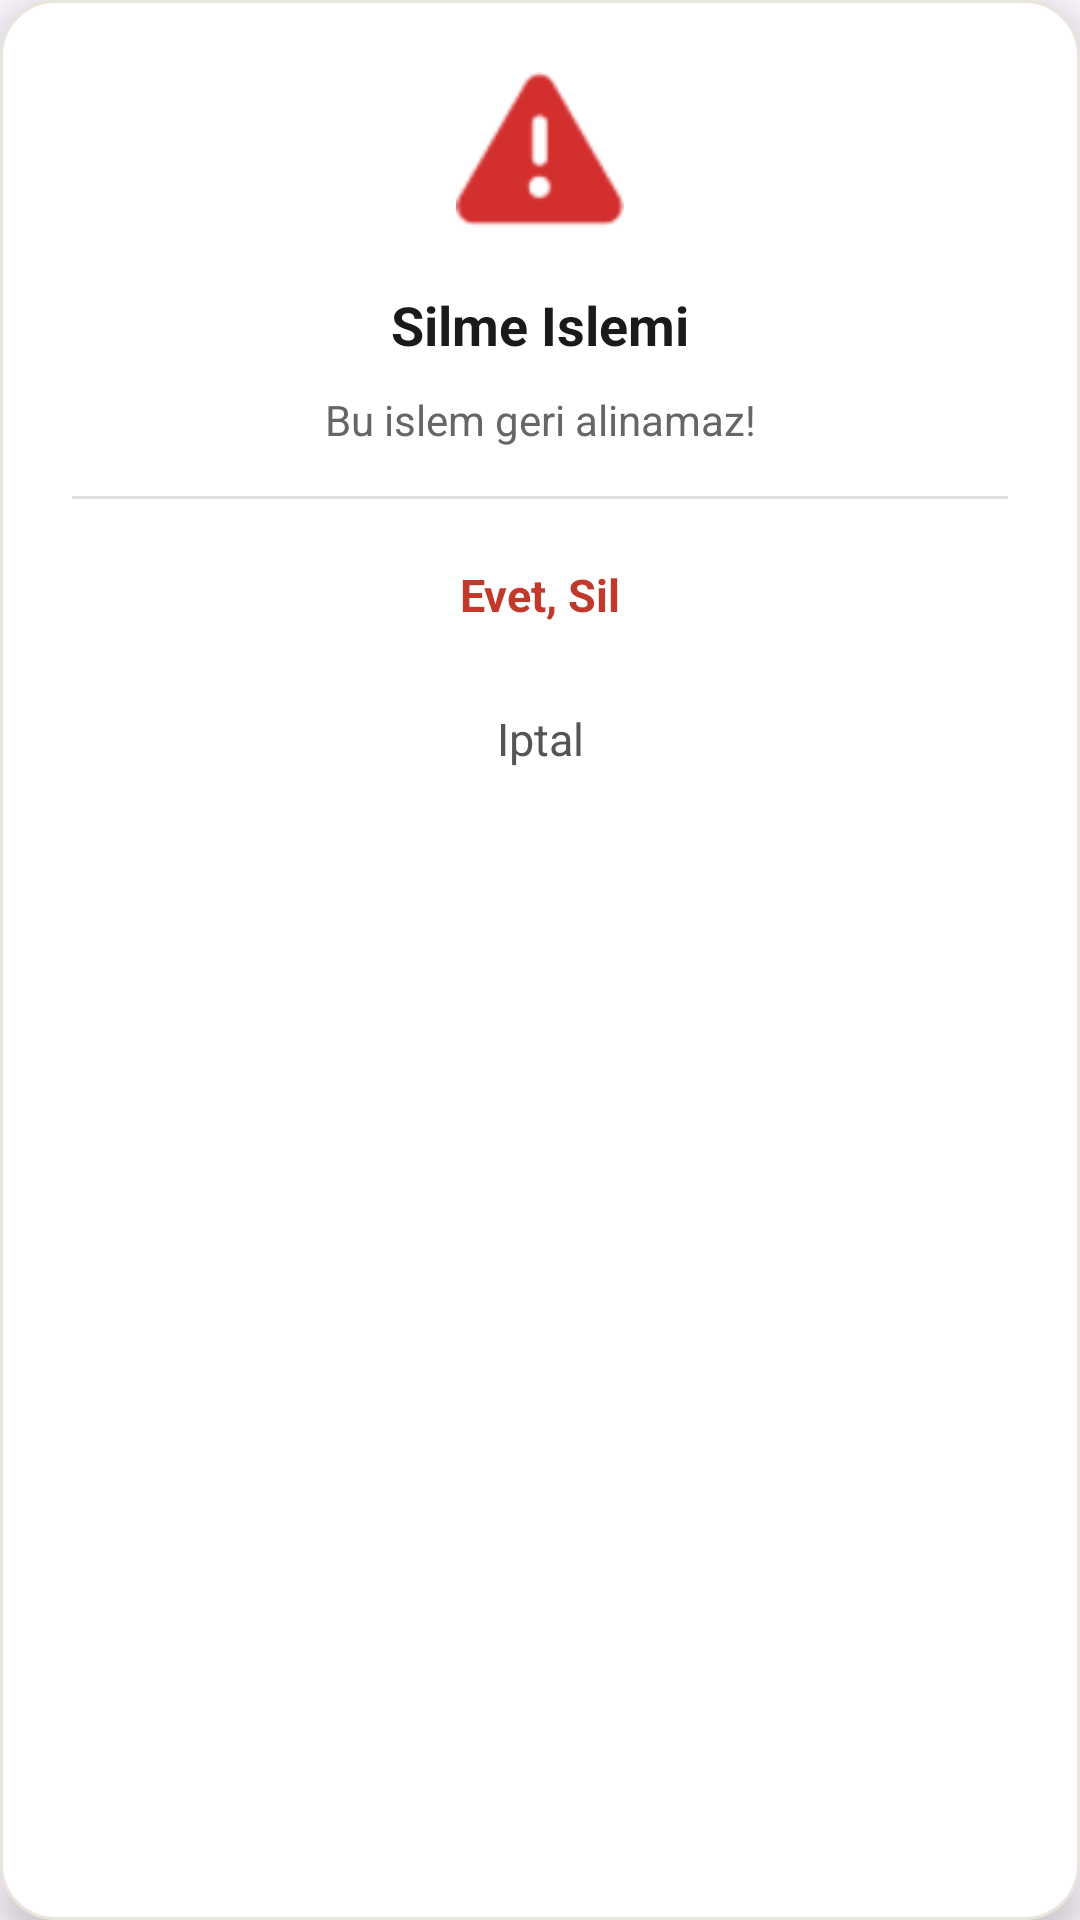

Screen size 1080px x 1920px. Icon name, then its box in pixels as BBox(x1, y1, x2, y2):
alert: BBox(456, 72, 624, 225)
